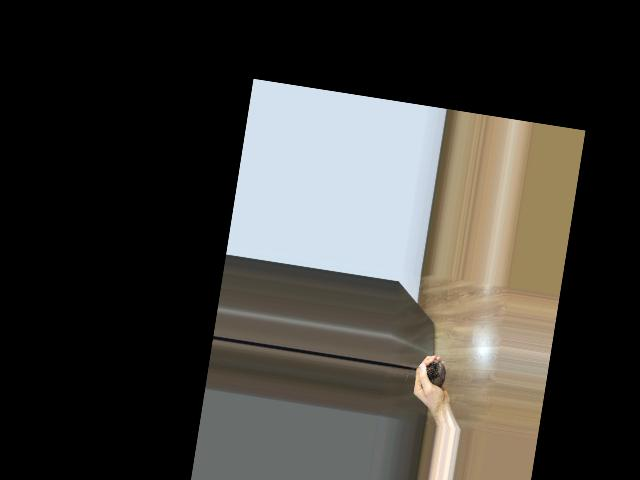beet: (405, 354, 448, 388)
